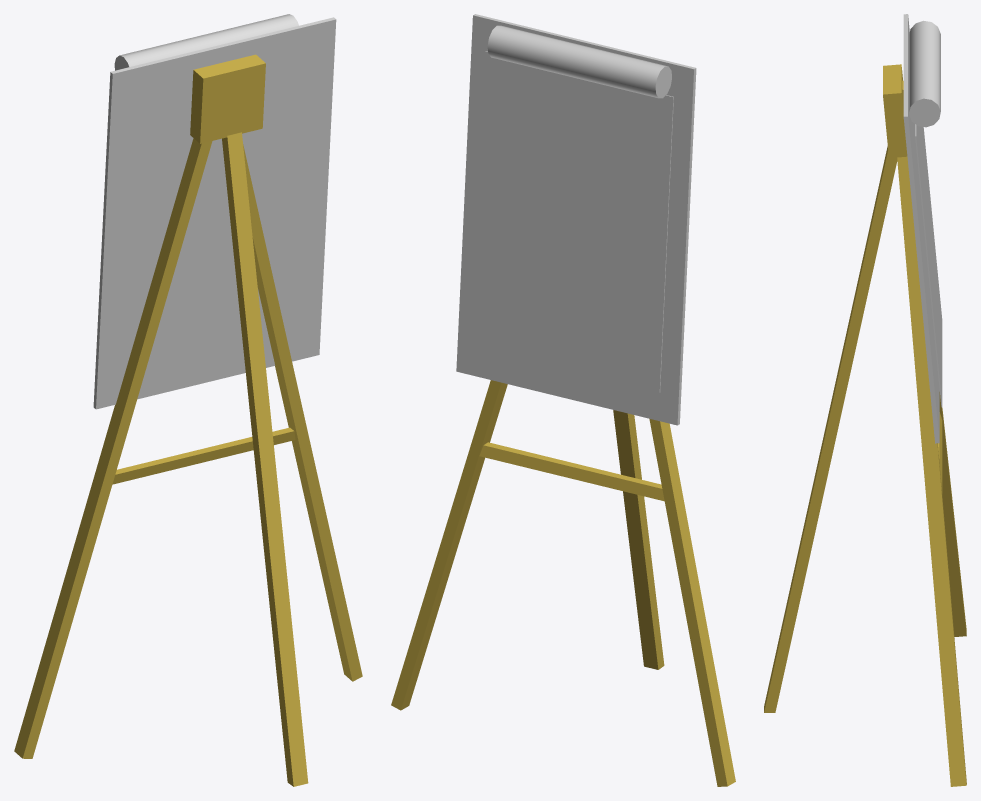
The model's file is flipchart.FBX.
3 renders of one model, left to right at view 1: azimuth 30°, elevation 25°; view 2: azimuth 150°, elevation 25°; view 3: azimuth 270°, elevation 25°, orthographic. The views are drawn at different scales.
Visible parts, largest first — view 1: flipchart, flipchart stand; view 2: Box013, flipchart, flipchart stand; view 3: flipchart stand, flipchart, Box013.
Part boxes in pixels (left/top/right/bottom): flipchart: left=93, top=14, right=336, bottom=409; flipchart stand: left=14, top=54, right=362, bottom=786; Box013: left=471, top=51, right=673, bottom=392; flipchart: left=456, top=14, right=696, bottom=425; flipchart stand: left=391, top=380, right=735, bottom=786; flipchart stand: left=764, top=64, right=966, bottom=786; flipchart: left=903, top=14, right=940, bottom=443; Box013: left=915, top=124, right=942, bottom=407.
Bounding box in the file's own units: 0.8272 × 1.61 × 0.4547.
